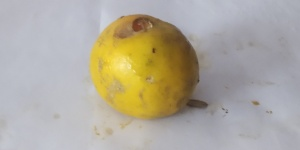BAD: (91, 14, 202, 126)
